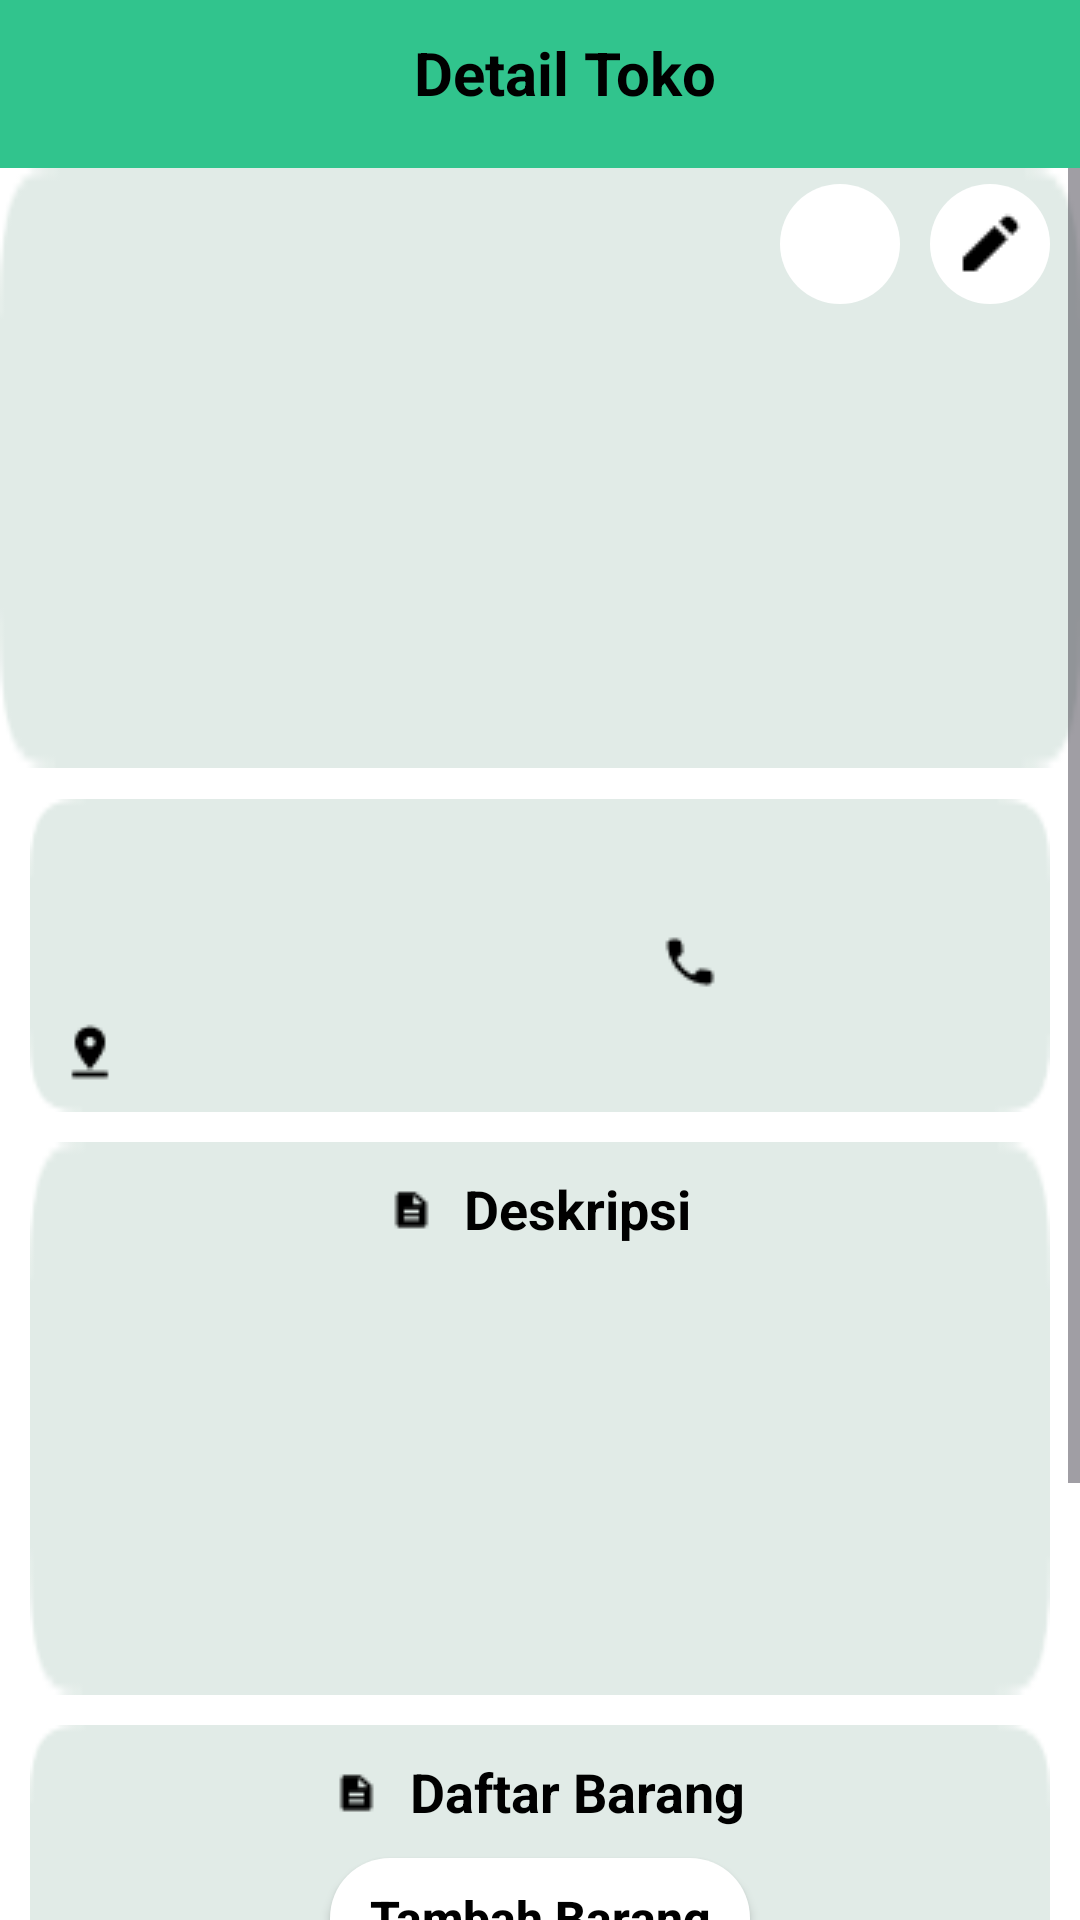

Icons on this 1080w x 1920h Android screen, each with its box as (x1, y1, x2, y2):
editdetail: (930, 184, 1050, 304)
